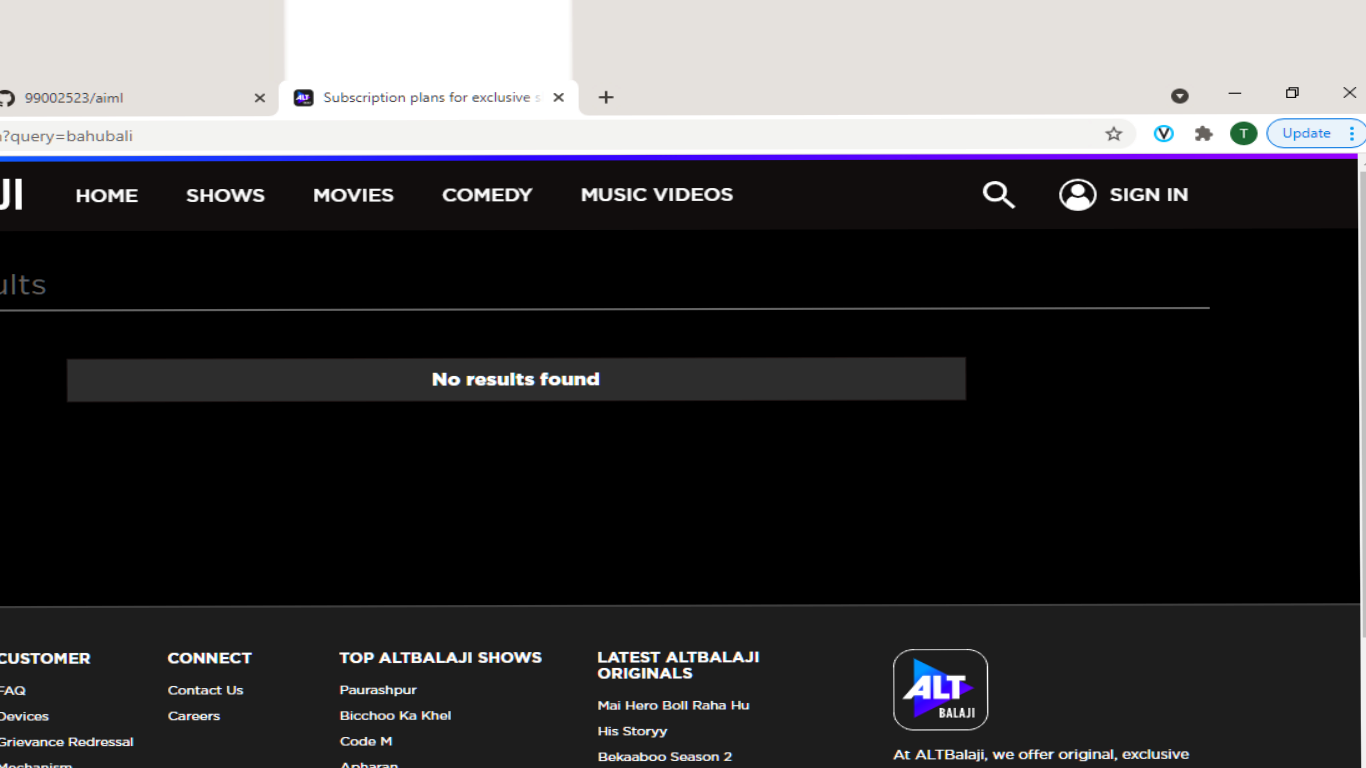noresultsfound: (53, 338, 970, 430)
profileicon: (1057, 166, 1204, 220)
searchicon: (953, 166, 1045, 215)
searchtextbox: (3, 248, 1209, 322)
